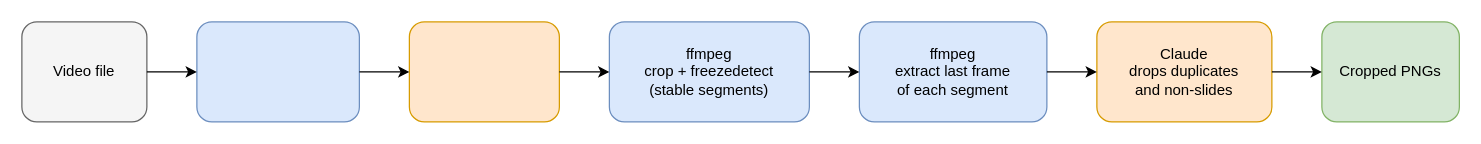
Image size: 1481x144. Some labels were removed from this diagram. Each missing label, with the centre of its shape:
"Claude finds crop box" goes at point 483,71.
"ffmpeg extract ~10 sample frames" goes at point 277,71.
